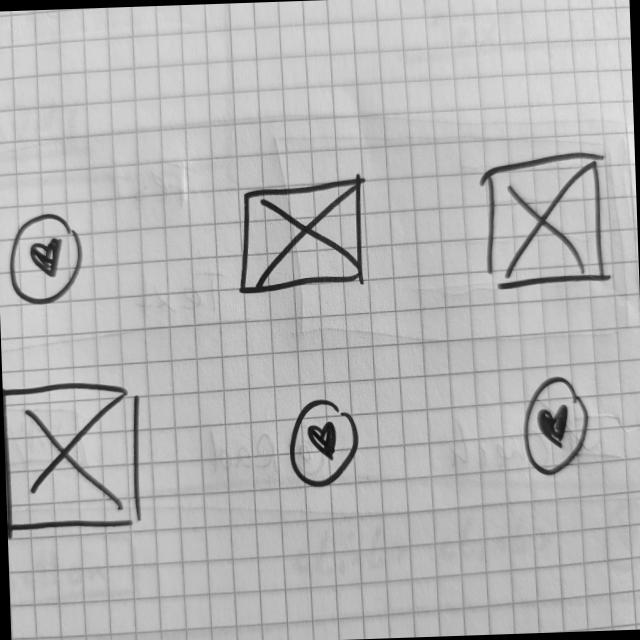icon-button: (6, 210, 88, 308), (521, 373, 592, 480), (288, 396, 362, 491)
image: (3, 379, 146, 535), (479, 147, 612, 297), (235, 171, 370, 298)
